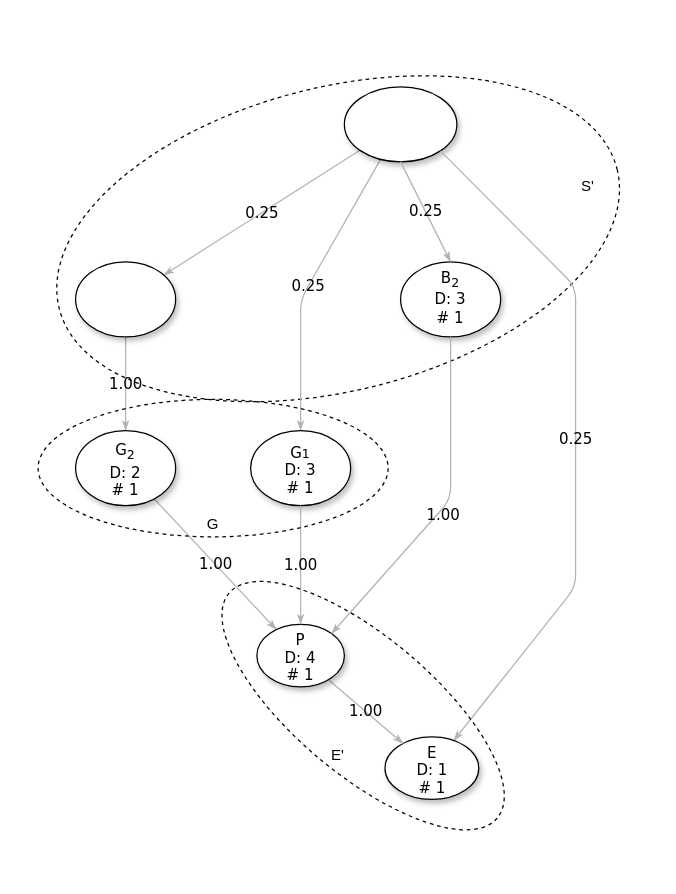
The diagram is 676 pixels wide and 894 high, and some of its shapes have lost their labels. The shapes that lost their labels are listed below. From the top down, each one's centre as x and y in pixels, then its label:
the point at 401,126: S D: 1 # 4
the point at 126,301: B 1 D: 3 # 1
